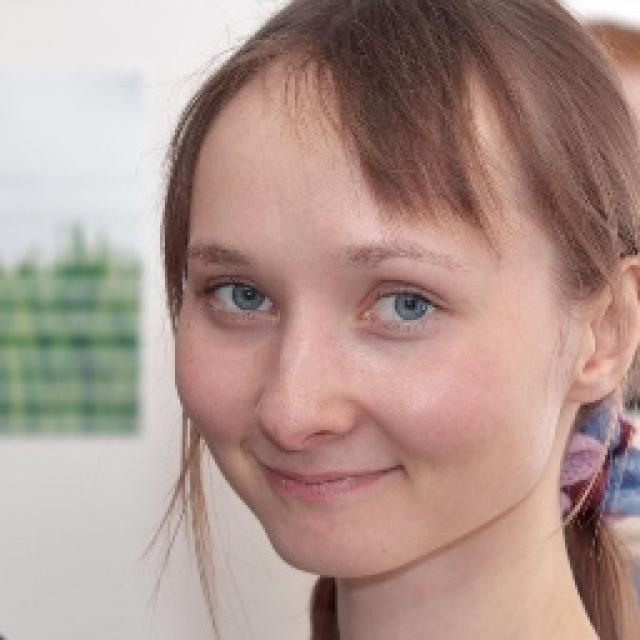earlobe: (566, 252, 640, 406)
